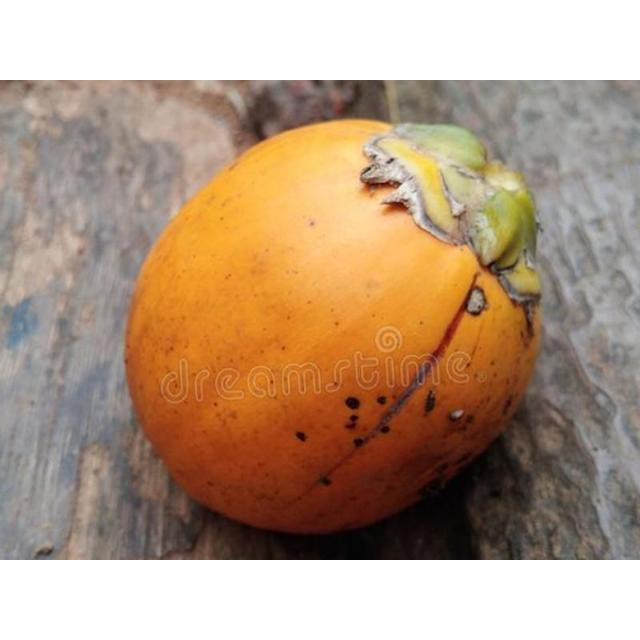good: (123, 118, 543, 538)
